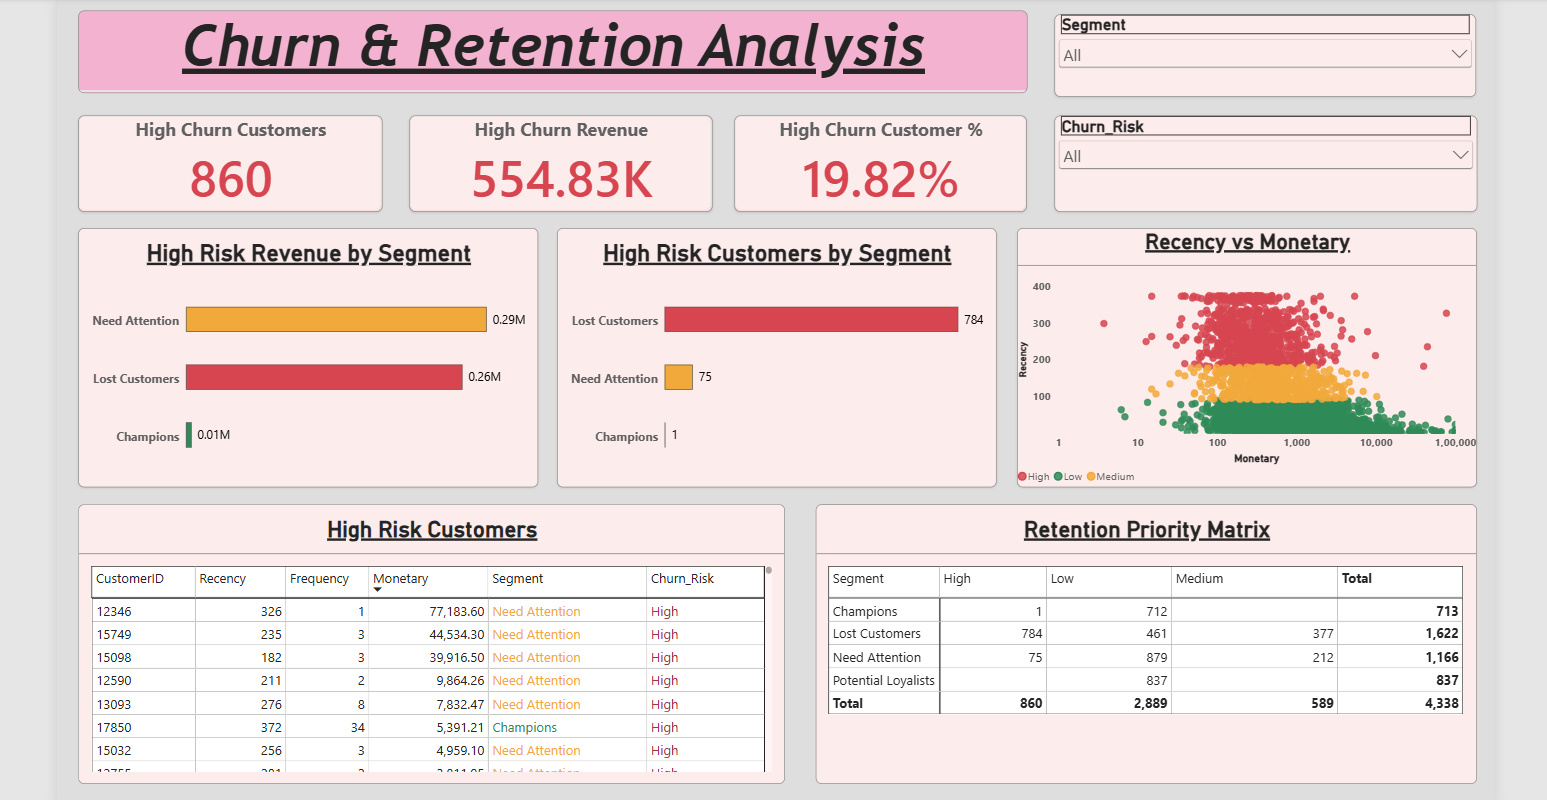

This screenshot's page, from the dashboard's own definition file:
{"tool":"powerbi","page":{"name":"3. Churn & Retention Analysis","canvas":[1920,1080],"ordinal":2},"visuals":[{"type":"cardVisual","fields":{"Data":["measures_table.High Churn Customers"]},"box":[27.6,156.4,406.8,128.8],"z":0},{"type":"cardVisual","fields":{"Data":["measures_table.Customer %"]},"box":[905.5,156.4,390.2,128.8],"z":1000},{"type":"cardVisual","fields":{"Data":["measures_table.High Churn Revenue"]},"box":[471.2,156.4,404.9,128.8],"z":2000},{"type":"barChart","title":"High Risk Customers by Segment","fields":{"Category":["final_rfm_customer_segmentation.Segment"],"Y":["measures_table.High Churn Customers"]},"box":[668.1,307.4,587.1,346],"z":3000},{"type":"barChart","title":"High Risk Revenue by Segment","fields":{"Category":["final_rfm_customer_segmentation.Segment"],"Y":["measures_table.High Churn Revenue"]},"box":[27.6,307.4,614.7,346],"z":4000},{"type":"scatterChart","title":"Recency vs Monetary","fields":{"Category":["final_rfm_customer_segmentation.CustomerID"],"Series":["final_rfm_customer_segmentation.Churn_Risk"],"X":["Sum(final_rfm_customer_segmentation.Monetary)"],"Y":["final_rfm_customer_segmentation.Recency"]},"box":[1282.8,307.4,614.7,346],"z":5000},{"type":"tableEx","title":"High Risk Customers","fields":{"Values":["final_rfm_customer_segmentation.CustomerID","Sum(final_rfm_customer_segmentation.Recency)","Sum(final_rfm_customer_segmentation.Frequency)","Sum(final_rfm_customer_segmentation.Monetary)","final_rfm_customer_segmentation.Segment","final_rfm_customer_segmentation.Churn_Risk"]},"box":[27.6,675.5,944.2,373.6],"z":6000},{"type":"shape","title":"Churn & Retention Analysis","box":[27.6,16.6,1268.1,110.4],"z":7000},{"type":"slicer","fields":{"Values":["final_rfm_customer_segmentation.Segment"]},"box":[1332.5,22.1,563.2,110.4],"z":8000},{"type":"slicer","fields":{"Values":["final_rfm_customer_segmentation.Churn_Risk"]},"box":[1332.5,156.4,565,128.8],"z":9000},{"type":"pivotTable","title":"Retention Priority Matrix","fields":{"Columns":["final_rfm_customer_segmentation.Churn_Risk"],"Rows":["final_rfm_customer_segmentation.Segment"],"Values":["measures_table.Total Customers"]},"box":[1014.1,675.5,883.4,373.6],"z":10000}]}

Visuals, with their boxes on the page's 1920x1080 design canvas (x1, y1, x2, y2). These are canvas units, not pixel positions in the 1547x800 screenshot, which may show the page scaled, cropped or inside an application window:
cardVisual - measures_table.High Churn Customers: pyautogui.locateOnScreen(28, 156, 434, 285)
cardVisual - measures_table.Customer %: pyautogui.locateOnScreen(906, 156, 1296, 285)
cardVisual - measures_table.High Churn Revenue: pyautogui.locateOnScreen(471, 156, 876, 285)
"High Risk Customers by Segment" barChart: pyautogui.locateOnScreen(668, 307, 1255, 653)
"High Risk Revenue by Segment" barChart: pyautogui.locateOnScreen(28, 307, 642, 653)
"Recency vs Monetary" scatterChart: pyautogui.locateOnScreen(1283, 307, 1898, 653)
"High Risk Customers" tableEx: pyautogui.locateOnScreen(28, 676, 972, 1049)
"Churn & Retention Analysis" shape: pyautogui.locateOnScreen(28, 17, 1296, 127)
slicer - final_rfm_customer_segmentation.Segment: pyautogui.locateOnScreen(1332, 22, 1896, 132)
slicer - final_rfm_customer_segmentation.Churn_Risk: pyautogui.locateOnScreen(1332, 156, 1898, 285)
"Retention Priority Matrix" pivotTable: pyautogui.locateOnScreen(1014, 676, 1898, 1049)
